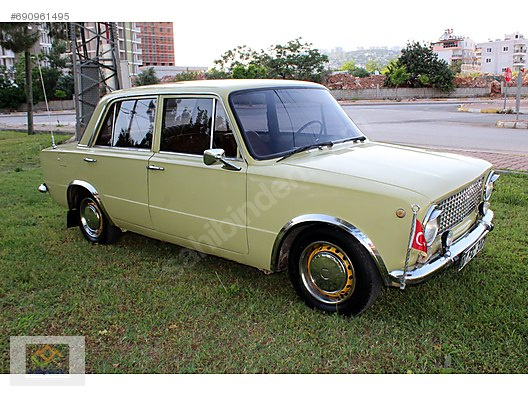murat: (34, 67, 499, 313)
